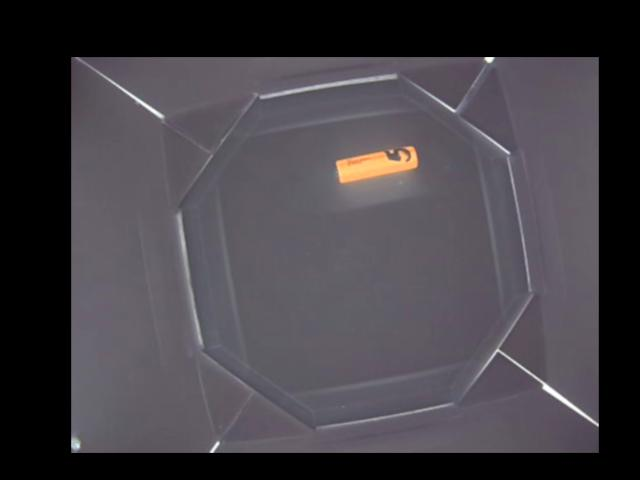Battery: (335, 144, 419, 182)
